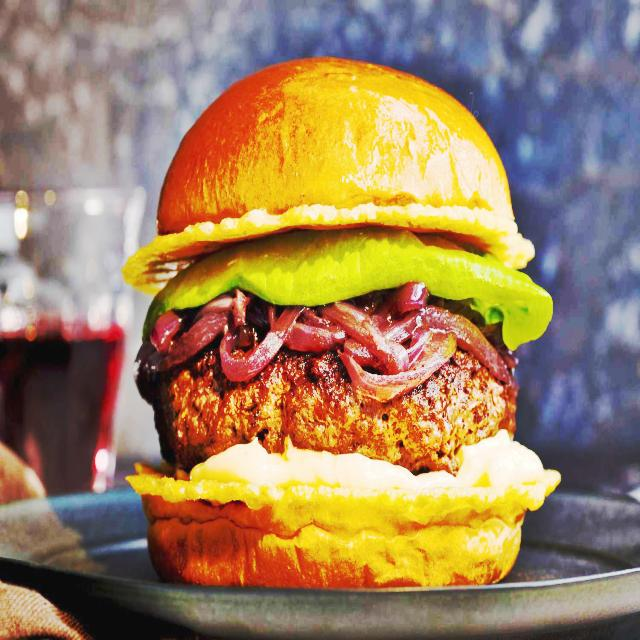burger: (122, 55, 563, 577)
